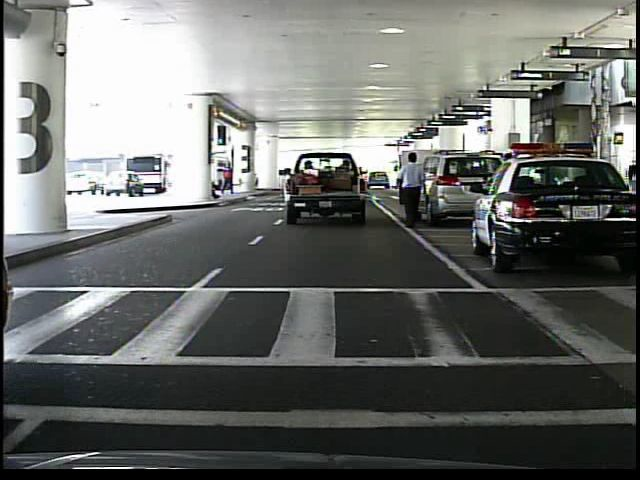person: (395, 152, 434, 231), (221, 160, 237, 198)
